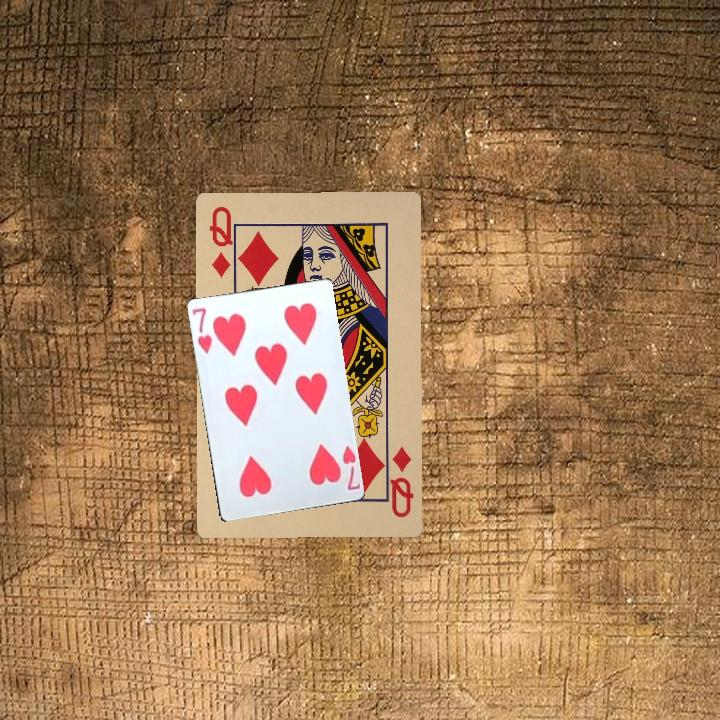7h: (189, 304, 215, 356), (338, 442, 361, 493)
Qd: (378, 443, 417, 520), (205, 202, 238, 285)
